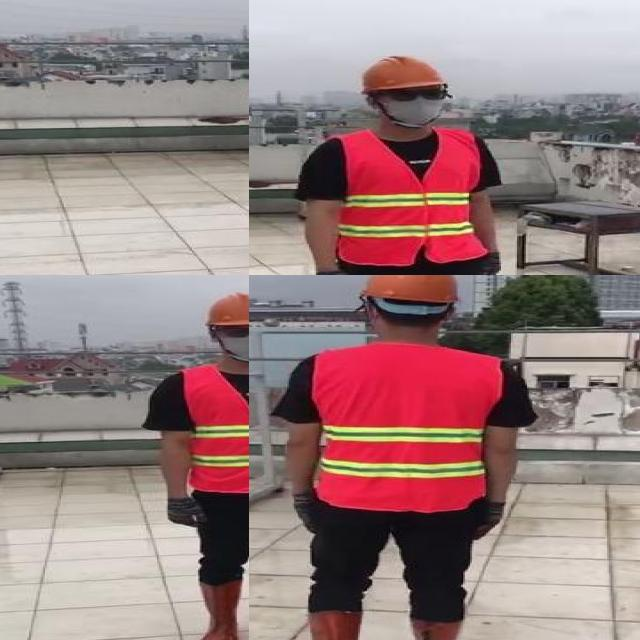boots: (196, 581, 242, 640), (308, 609, 366, 640), (406, 614, 463, 640)
face_mask: (380, 86, 450, 126), (220, 321, 249, 359)
glasses: (380, 83, 458, 106), (217, 320, 249, 340)
hand_glove: (287, 489, 324, 533), (466, 500, 504, 541), (164, 498, 207, 531), (483, 250, 502, 275)
head_helmet: (360, 52, 445, 93), (359, 275, 466, 306), (201, 291, 249, 328)
person: (265, 275, 528, 640), (289, 50, 524, 275), (143, 289, 249, 640)
vest: (314, 345, 496, 511), (329, 131, 483, 265), (182, 361, 249, 494)
